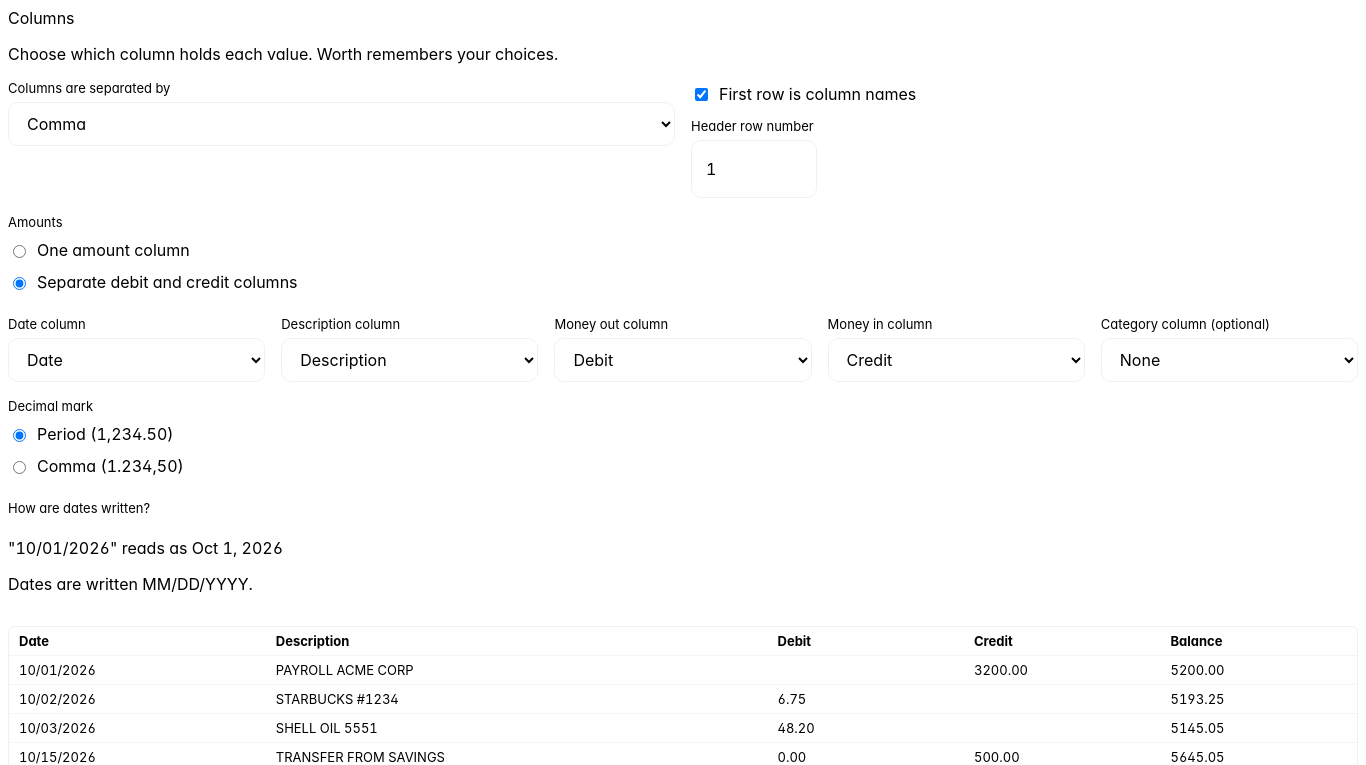
it: ColumnsStep › switches to debit and credit columns
Expected: the radio button labelled "Separate debit and credit columns" is checked, [13,277,26,290]
Expected: the dropdown labelled "Money out column" is shown, [554,338,812,382]
Click the radio button labelled "One amount column". click: (20, 252)
box: [13,245,26,258]
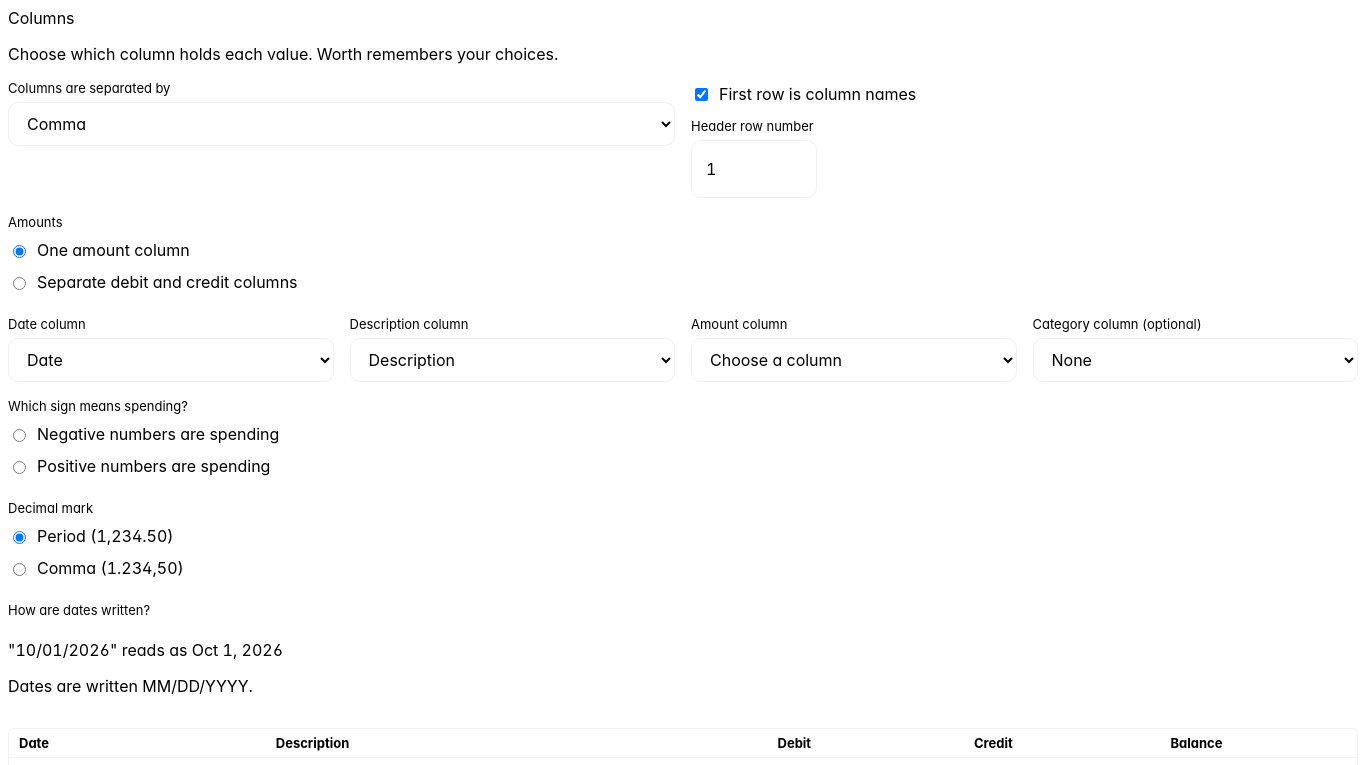
Now the dropdown labelled "Amount column" is shown, box [691,338,1016,382]
Now the element "Which sign means spending?" is shown, box [8,398,279,476]
